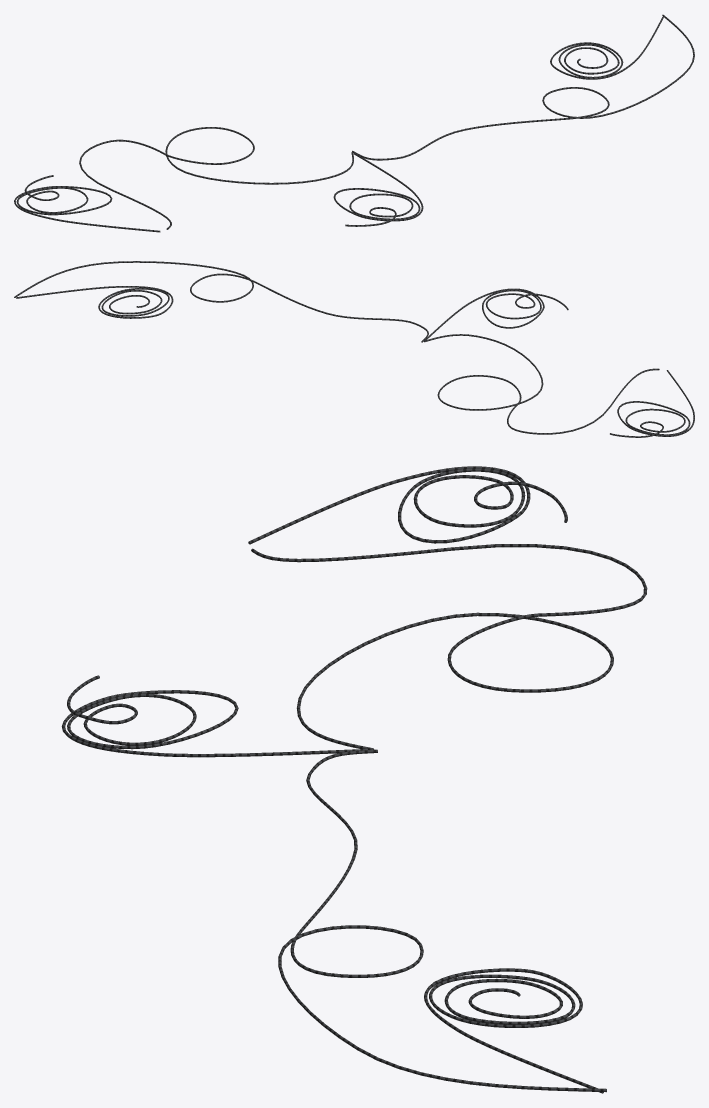
File: bomb_wires_unique02.FBX
3 views of the same model, one above another, from view 1: azimuth 30°, elevation 25°; view 2: azimuth 150°, elevation 25°; view 3: azimuth 270°, elevation 25° (orthographic). The views are drawn at different scales.
Parts seen in each view (by area): view 1: bomb_wires_unique02; view 2: bomb_wires_unique02; view 3: bomb_wires_unique02.
Part boxes in pixels (bbox=[...]): bomb_wires_unique02: bbox=[14, 14, 694, 232]; bomb_wires_unique02: bbox=[14, 261, 694, 437]; bomb_wires_unique02: bbox=[61, 466, 647, 1093].
Size of the model in its own units: 17.64 by 0.0712 by 6.97.
